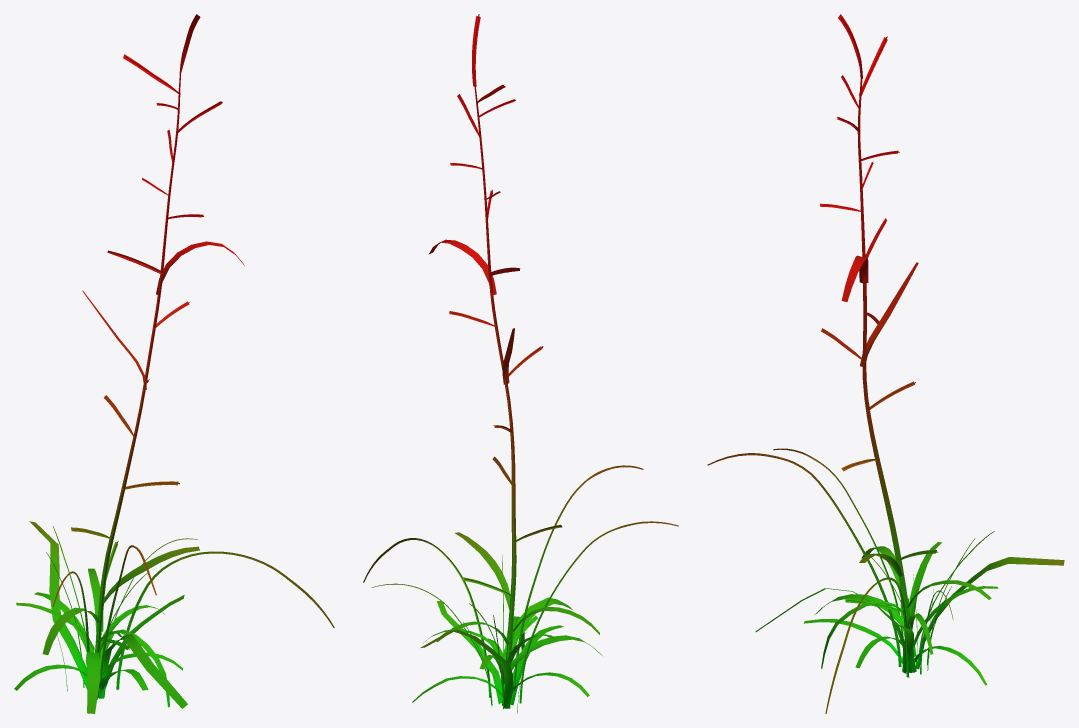
Rendered from tcepfcfr_Var5_LOD0.fbx.
3 renders of one model, left to right at view 1: azimuth 30°, elevation 25°; view 2: azimuth 150°, elevation 25°; view 3: azimuth 270°, elevation 25°, orthographic. The views are drawn at different scales.
Visible parts, largest first — view 1: _b042_Var5_LOD0; view 2: _b042_Var5_LOD0; view 3: _b042_Var5_LOD0.
Boxes of the visible parts, x1,y1,x2,y2 form: _b042_Var5_LOD0: (14, 14, 334, 713); _b042_Var5_LOD0: (363, 14, 678, 713); _b042_Var5_LOD0: (707, 14, 1064, 713).
Bounding box in the file's own units: 33.33 × 71.65 × 33.61.
